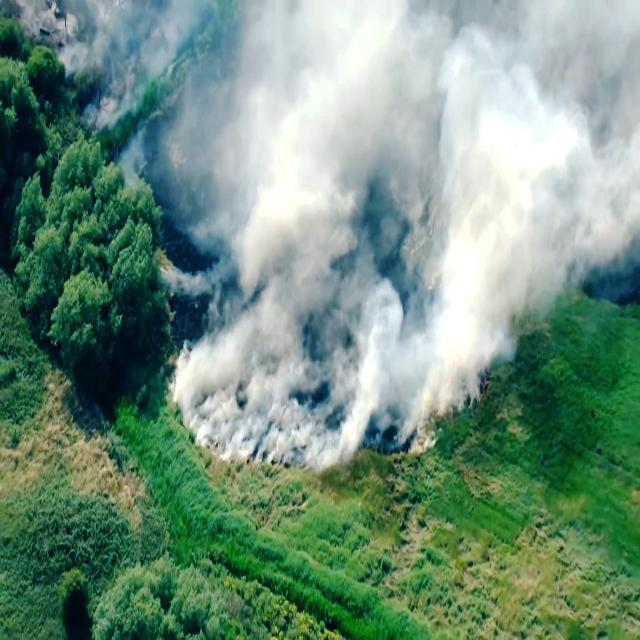Smoke: (62, 0, 639, 465)
